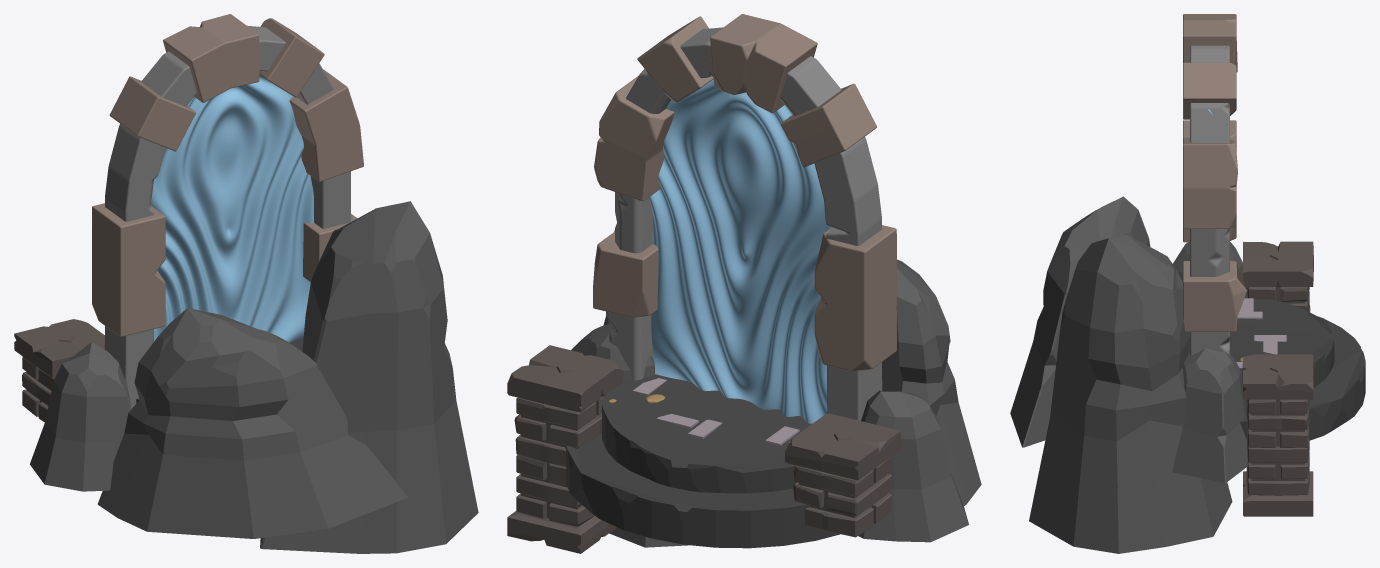
The model's file is Portal.fbx.
The picture shows the model from 3 angles, left to right: view 1: azimuth 30°, elevation 25°; view 2: azimuth 150°, elevation 25°; view 3: azimuth 270°, elevation 25°; orthographic projection. The views are drawn at different scales.
Visible parts, largest first — view 1: Cube.028, Cube.027, Plane.003, Plane.002, Plane.001, Cube.025, Cube.024; view 2: Plane.003, Plane.002, Cylinder.023, Plane.001, Cube.026, Cylinder.022, Cube.024, Cube.025, Cube.028, Cube.023, Cube.027; view 3: Cube.027, Plane.002, Cube.026, Cube.028, Cube.023, Plane.001, Cylinder.023, Cube.024, Cylinder.022, Cube.025.
Part boxes in pixels (x1=…): Cube.028: x1=97, y1=308, x2=408, y2=538; Cube.027: x1=260, y1=201, x2=478, y2=553; Plane.003: x1=151, y1=75, x2=313, y2=342; Plane.002: x1=92, y1=14, x2=363, y2=336; Plane.001: x1=104, y1=25, x2=350, y2=408; Cube.025: x1=30, y1=342, x2=131, y2=491; Cube.024: x1=14, y1=319, x2=104, y2=422; Plane.003: x1=649, y1=79, x2=832, y2=423; Plane.002: x1=593, y1=14, x2=896, y2=371; Cylinder.023: x1=602, y1=374, x2=811, y2=493; Plane.001: x1=607, y1=27, x2=882, y2=420; Cube.026: x1=507, y1=345, x2=623, y2=553; Cylinder.022: x1=565, y1=432, x2=840, y2=548; Cube.024: x1=785, y1=413, x2=900, y2=537; Cube.025: x1=858, y1=390, x2=968, y2=542; Cube.028: x1=882, y1=259, x2=981, y2=505; Cube.023: x1=571, y1=323, x2=654, y2=379; Cube.027: x1=603, y1=230, x2=688, y2=547; Cube.027: x1=1029, y1=235, x2=1232, y2=553; Plane.002: x1=1183, y1=14, x2=1247, y2=331; Cube.026: x1=1242, y1=354, x2=1313, y2=516; Cube.028: x1=1010, y1=196, x2=1150, y2=447; Cube.023: x1=1172, y1=348, x2=1247, y2=482; Plane.001: x1=1190, y1=45, x2=1229, y2=356; Cylinder.023: x1=1230, y1=295, x2=1334, y2=402; Cube.024: x1=1243, y1=241, x2=1313, y2=311; Cylinder.022: x1=1240, y1=316, x2=1365, y2=440; Cube.025: x1=1173, y1=242, x2=1246, y2=295.
Size of the model in its own units: 374 by 440 by 323.
